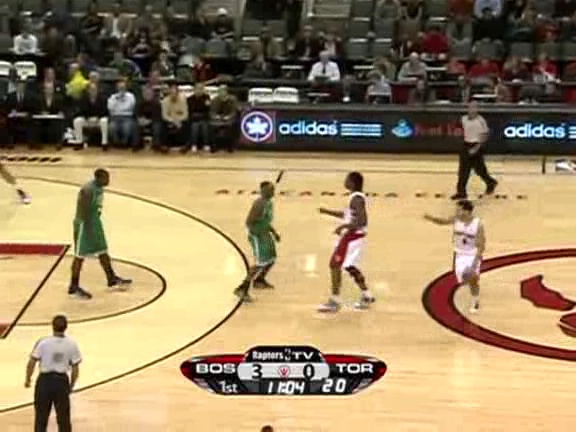person: (246, 191, 280, 272), (245, 191, 279, 272), (247, 191, 281, 272), (246, 190, 280, 271), (246, 192, 280, 273)
target_negative: (186, 169, 319, 409), (241, 260, 529, 317), (137, 323, 342, 355), (185, 274, 301, 322), (210, 389, 393, 402), (370, 255, 493, 262)
